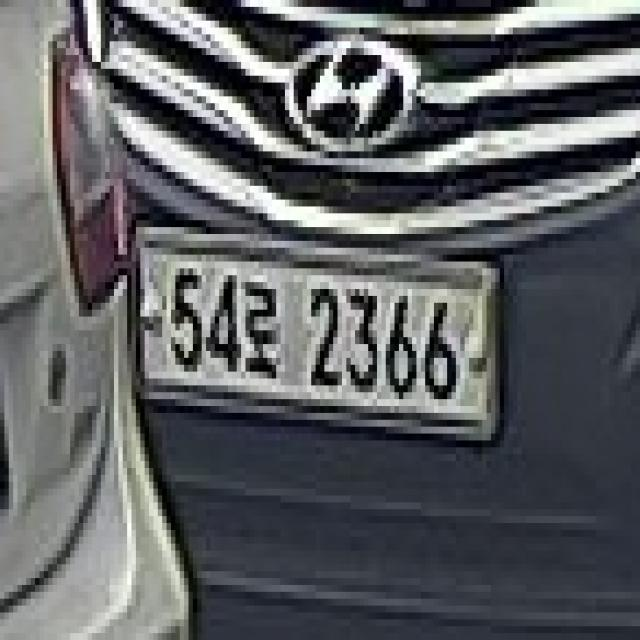2: (307, 275, 342, 406)
3: (346, 275, 386, 399)
4: (206, 255, 241, 372)
5: (167, 248, 206, 378)
6: (421, 282, 469, 413), (377, 282, 425, 406)
license_plate: (114, 234, 513, 454)
lo: (241, 268, 285, 386)
